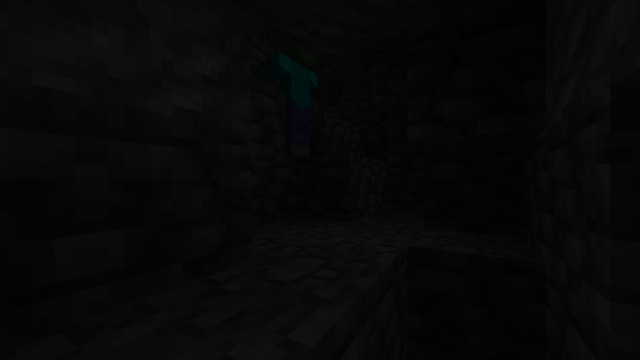zombies: (269, 33, 319, 158)
